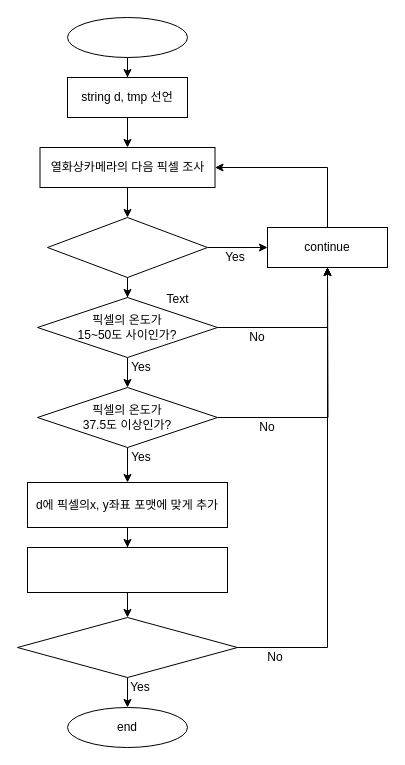
This 405x765 diagram has some shape labels left out. Each missing label, with the centre of its shape:
start: [127,37]
tmp에 픽셀의x, y좌표, 온도를 포맷에 맞게 추가: [127,569]
픽셀의 온도가 nan값인가?: [127,247]
해당 픽셀이 마지막 픽셀인가?: [127,647]
